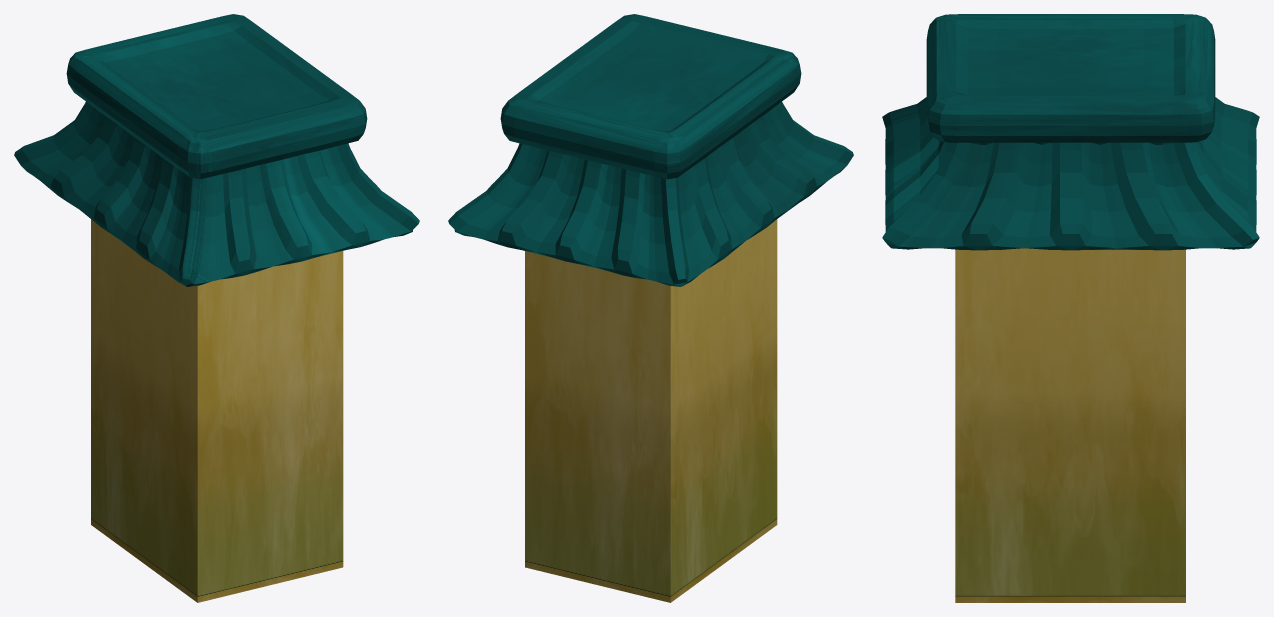
Rendered from SplitPillarRoof.glb.
3 renders of one model, left to right at view 1: azimuth 30°, elevation 25°; view 2: azimuth 150°, elevation 25°; view 3: azimuth 270°, elevation 25°, orthographic. The views are drawn at different scales.
Parts seen in each view (by area): view 1: Pillar, PilarRoof; view 2: Pillar, PilarRoof; view 3: Pillar, PilarRoof.
Part boxes in pixels (box(x1,y1,x2,y2)): Pillar: box(91, 219, 343, 602); PilarRoof: box(14, 14, 419, 286); Pillar: box(525, 219, 777, 602); PilarRoof: box(448, 14, 853, 286); Pillar: box(955, 248, 1185, 602); PilarRoof: box(882, 14, 1259, 250).
Size of the model in its own units: 3.26 by 6.16 by 4.15.
Materials: 2 (2 with a texture image).
